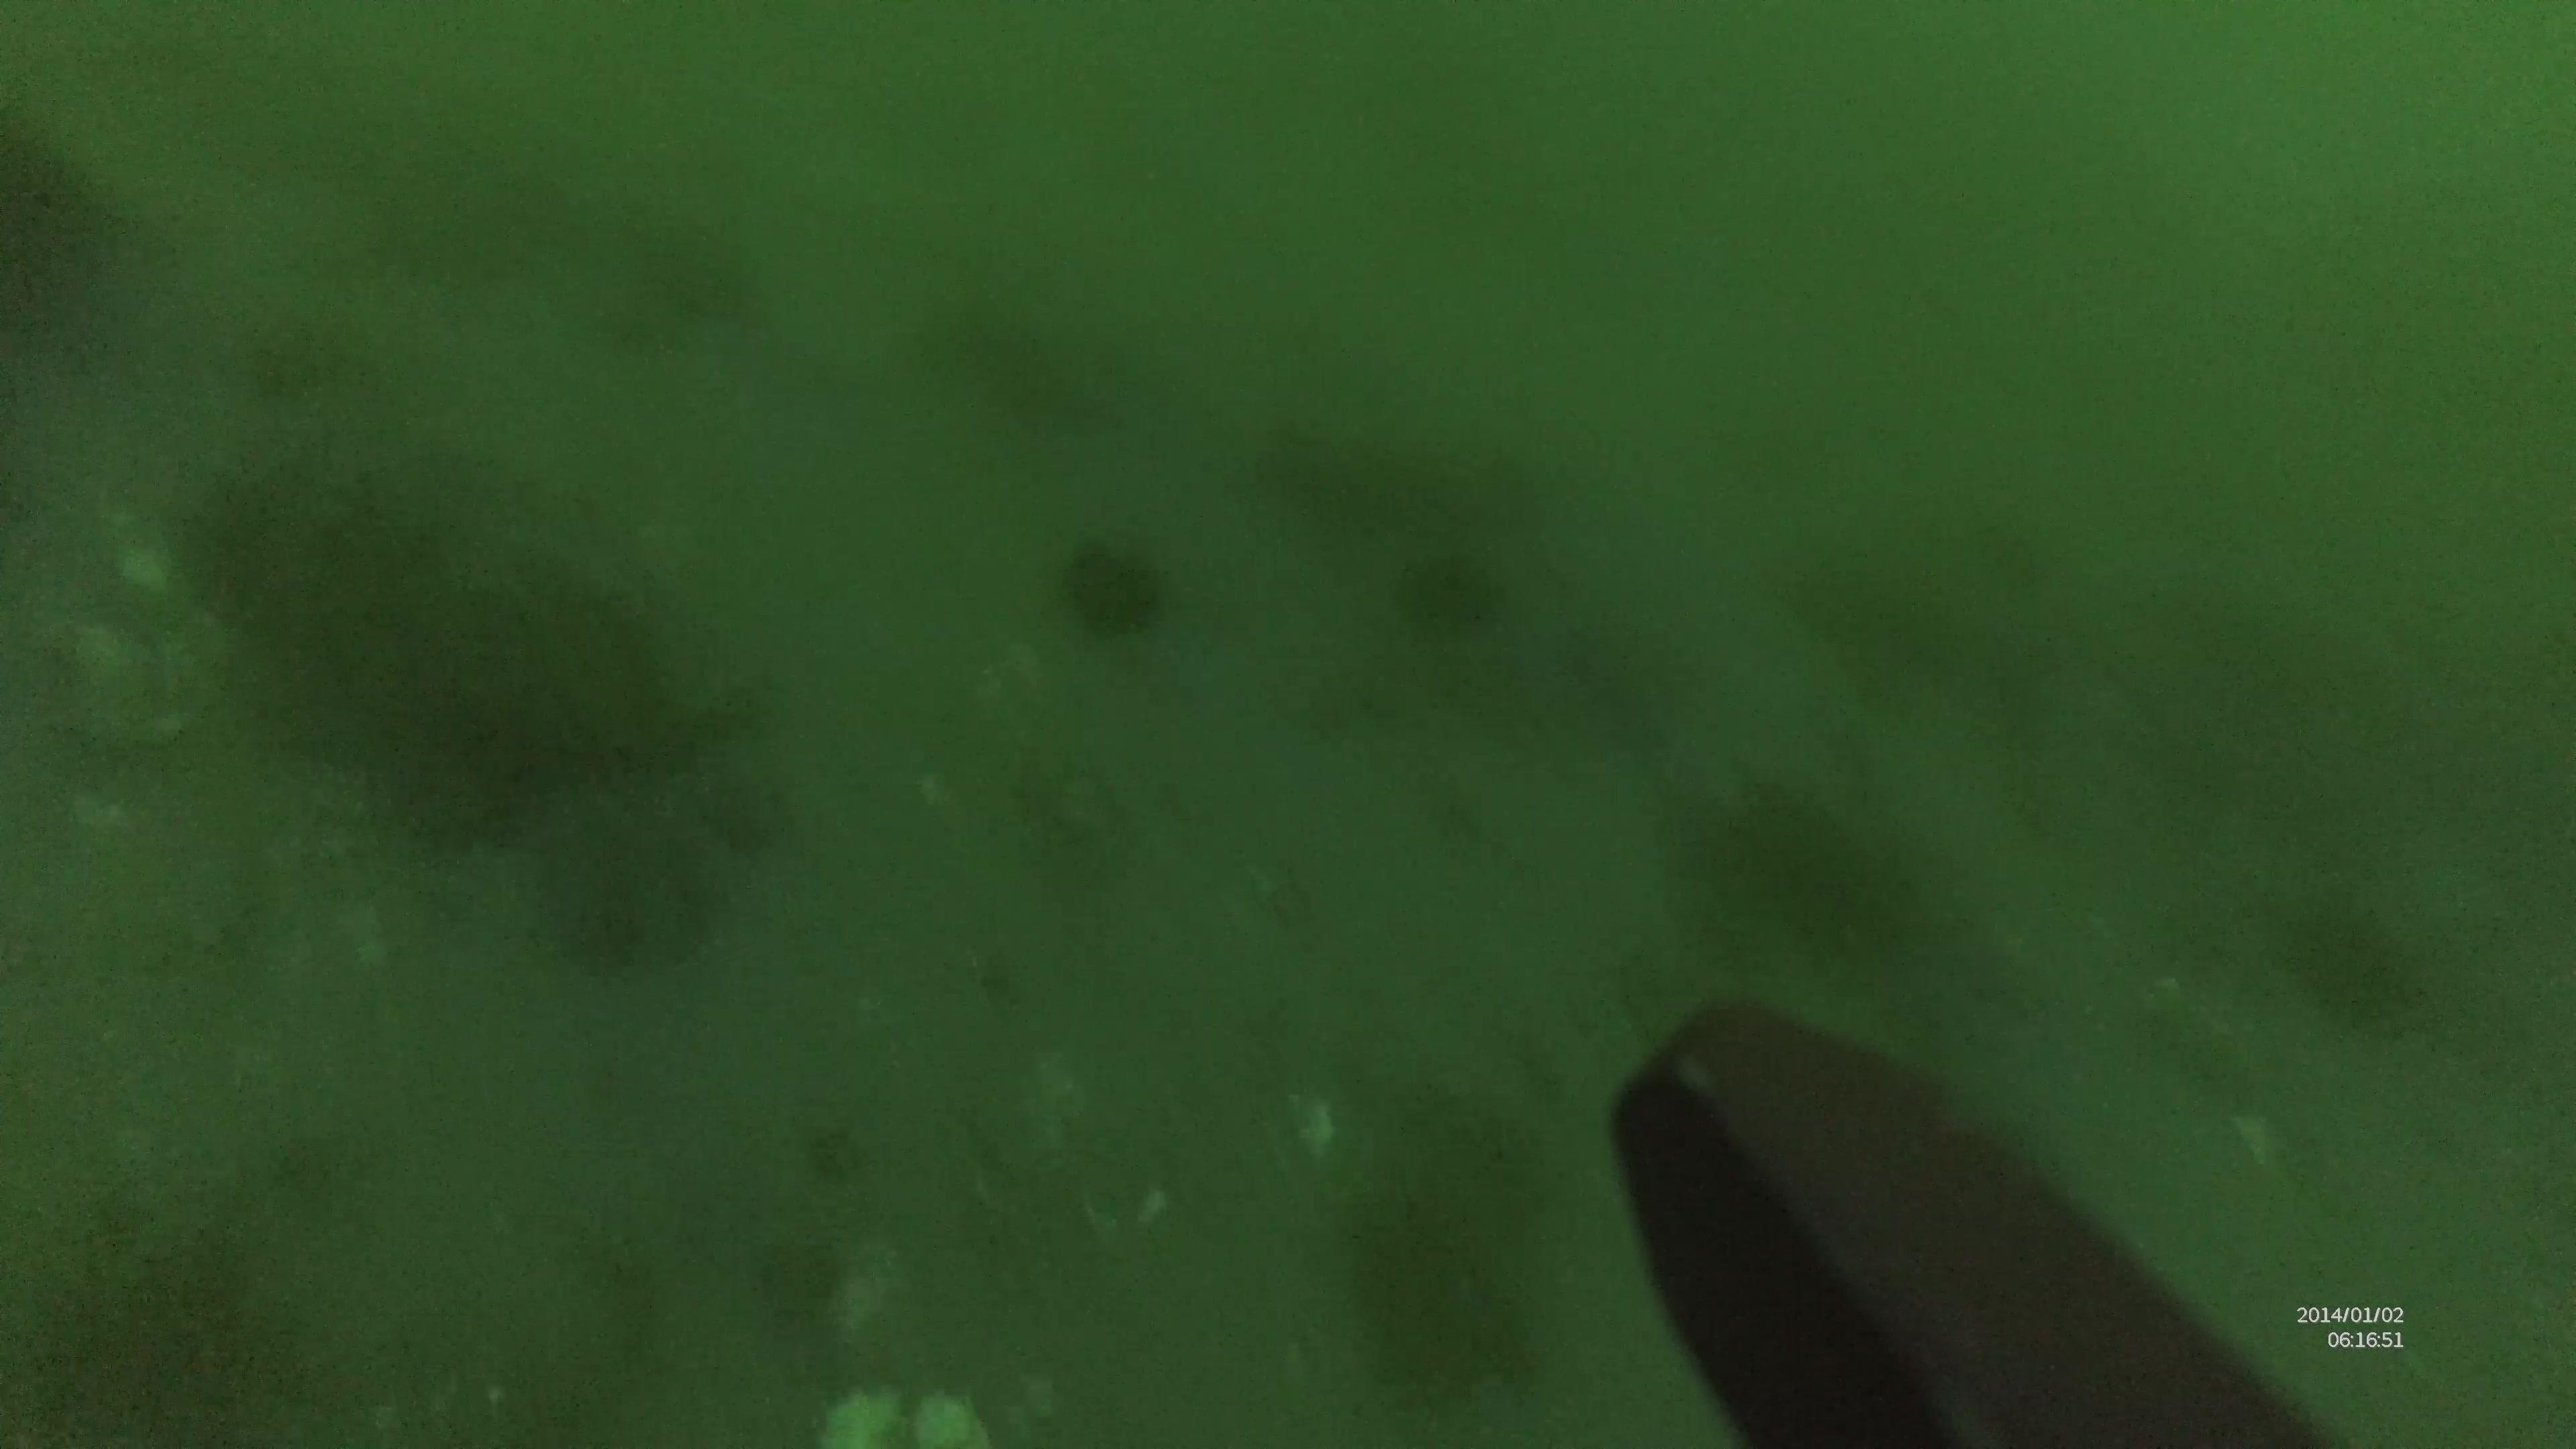echinus: (1065, 536, 1157, 633)
